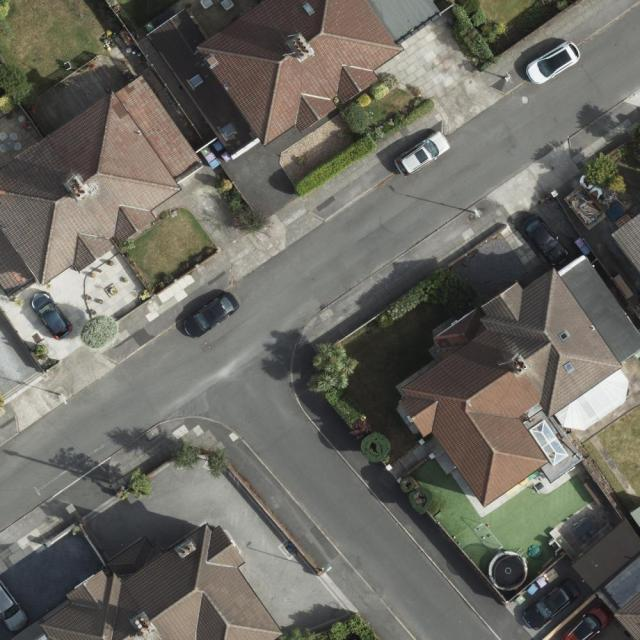roof: (400, 256, 640, 507), (0, 75, 203, 297), (146, 1, 442, 150), (43, 523, 284, 640), (610, 213, 640, 274), (616, 591, 640, 640)
skylight: (528, 419, 569, 466), (189, 73, 204, 88), (562, 361, 577, 375), (302, 3, 317, 17), (558, 328, 572, 342), (220, 0, 236, 11), (200, 0, 215, 10)
